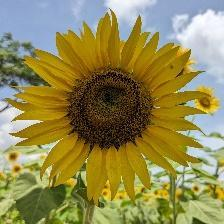sunflower: (15, 11, 199, 201)
